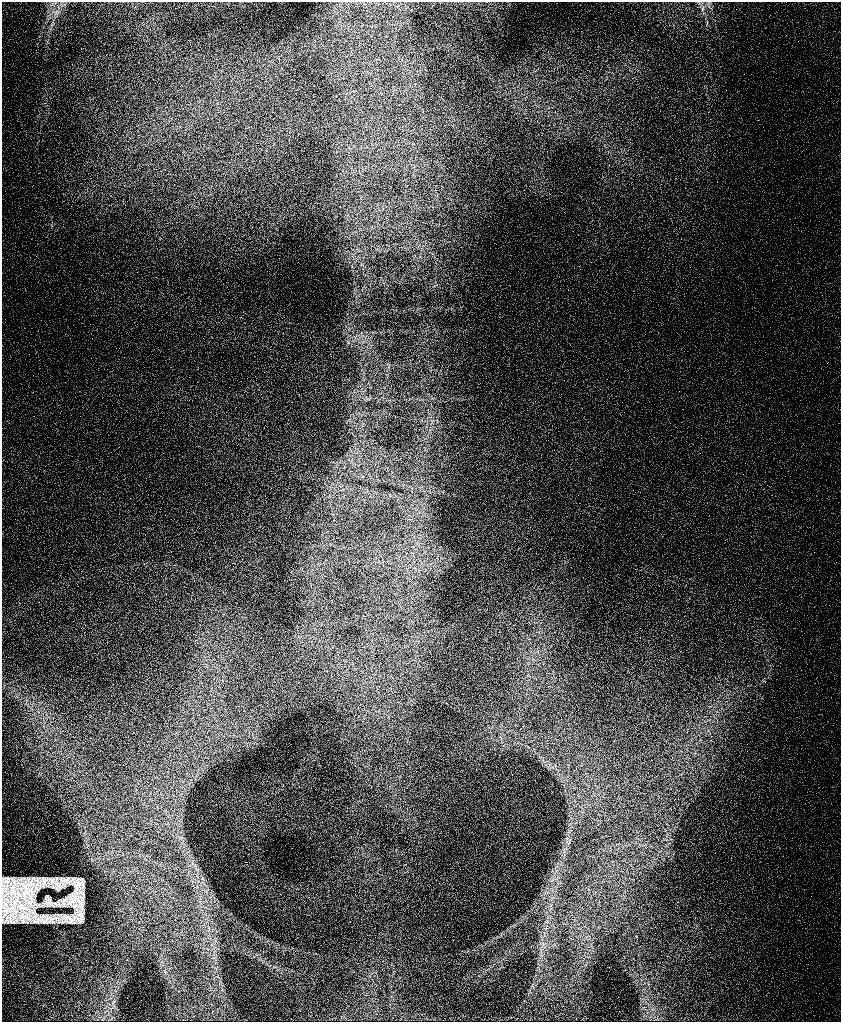lumbar scoliosis: (273, 81, 468, 704)
